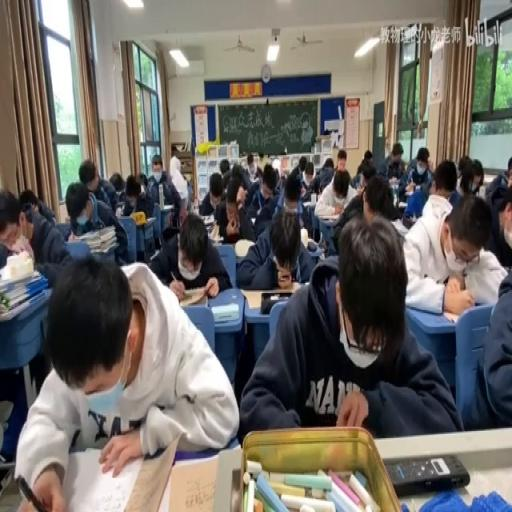calculator: (166, 452, 222, 512), (0, 287, 46, 321), (239, 286, 298, 308), (0, 266, 42, 291), (177, 283, 212, 307), (210, 300, 238, 322), (234, 236, 256, 256), (392, 218, 409, 238), (316, 209, 342, 221), (306, 236, 322, 253), (443, 310, 463, 323), (209, 222, 219, 242), (202, 213, 214, 225), (303, 196, 317, 206), (478, 184, 486, 199), (160, 203, 173, 212), (405, 184, 414, 194), (398, 199, 408, 206), (250, 216, 256, 225)
paper: (16, 253, 237, 508), (240, 215, 458, 439), (400, 189, 506, 314), (149, 209, 228, 296), (0, 186, 71, 280), (333, 171, 402, 256), (66, 176, 132, 264), (146, 154, 184, 232), (246, 166, 280, 236), (419, 158, 458, 219), (196, 171, 226, 219), (485, 158, 510, 202), (382, 141, 407, 183), (302, 158, 326, 196), (282, 171, 302, 206), (18, 191, 38, 219), (133, 192, 153, 220), (358, 162, 376, 189), (228, 162, 246, 189), (334, 170, 350, 200), (108, 171, 126, 196), (456, 155, 472, 179), (246, 154, 258, 180), (126, 181, 140, 202), (150, 155, 164, 176), (169, 155, 181, 176), (459, 176, 473, 192), (416, 148, 429, 165), (185, 178, 192, 209), (472, 160, 482, 180), (138, 170, 148, 188), (296, 155, 306, 172), (271, 158, 280, 176), (323, 156, 334, 170), (219, 158, 229, 173), (337, 154, 346, 170), (363, 149, 373, 161), (426, 155, 433, 171), (256, 164, 262, 179), (394, 151, 402, 162), (279, 169, 286, 181), (508, 158, 512, 173)
person: (384, 452, 468, 494), (228, 468, 241, 510)
